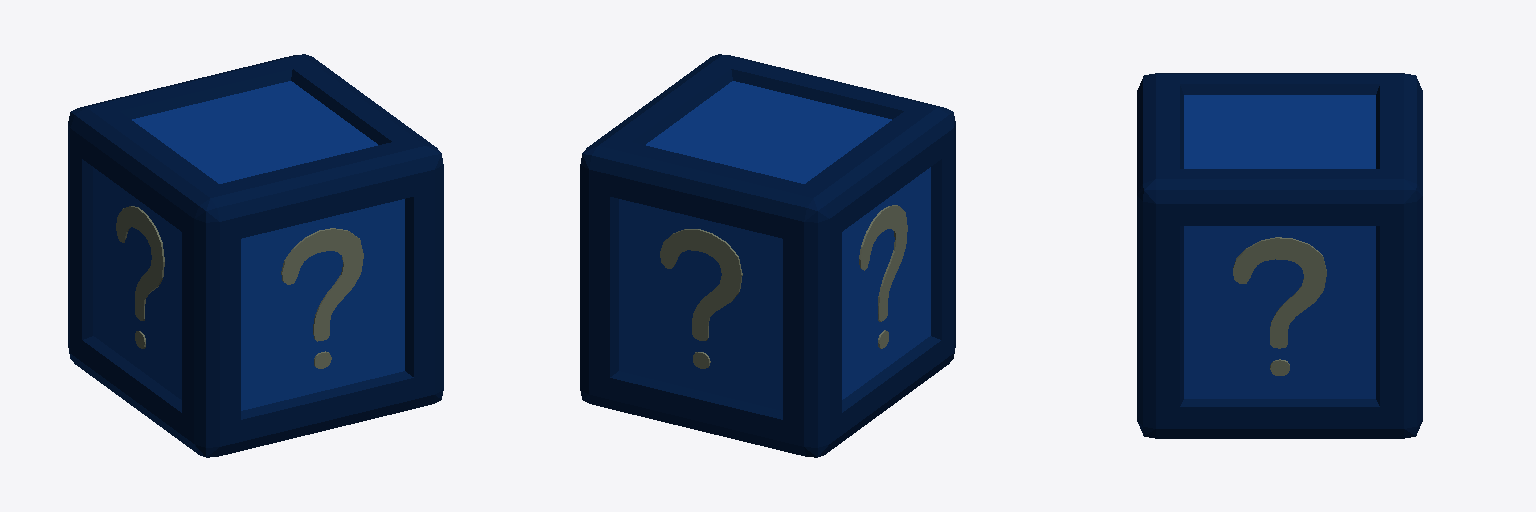
Rendered from Cube_Question.obj.
3 renders of one model, left to right at view 1: azimuth 30°, elevation 25°; view 2: azimuth 150°, elevation 25°; view 3: azimuth 270°, elevation 25°, orthographic.
Parts seen in each view (by area): view 1: Cube_Question_Cube.249; view 2: Cube_Question_Cube.249; view 3: Cube_Question_Cube.249.
Part boxes in pixels (left/top/right/bottom): Cube_Question_Cube.249: left=68, top=54, right=443, bottom=457; Cube_Question_Cube.249: left=580, top=54, right=955, bottom=457; Cube_Question_Cube.249: left=1137, top=73, right=1422, bottom=438.
Bounding box in the file's own units: 2.02 × 2.02 × 2.02.